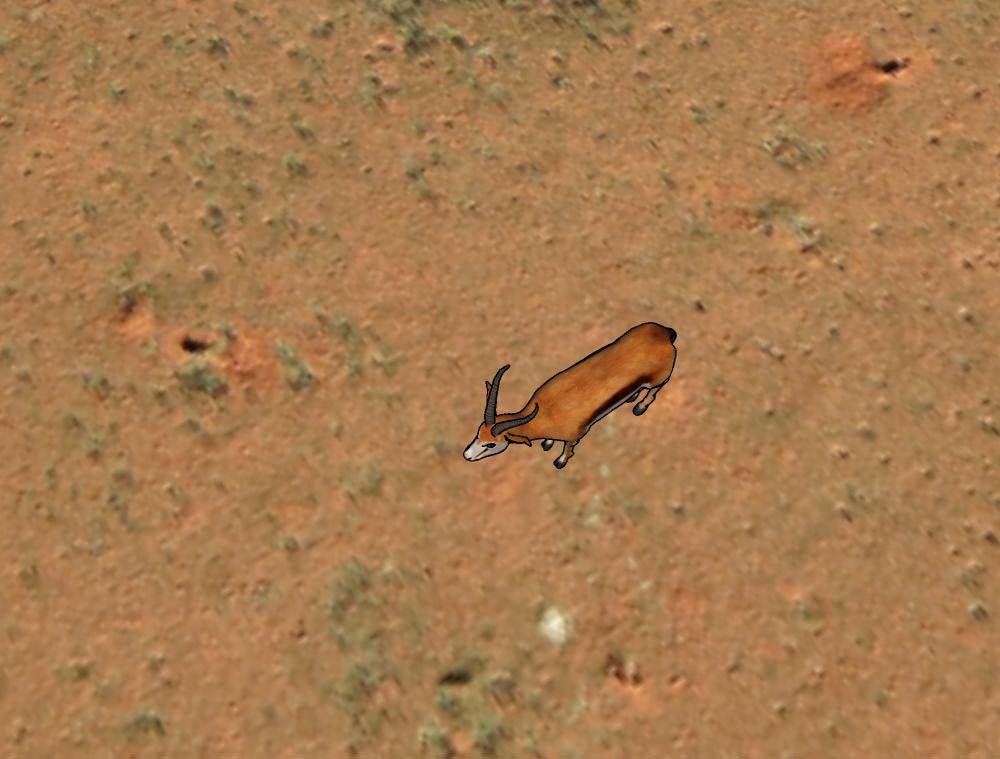springbok: (463, 321, 677, 473)
